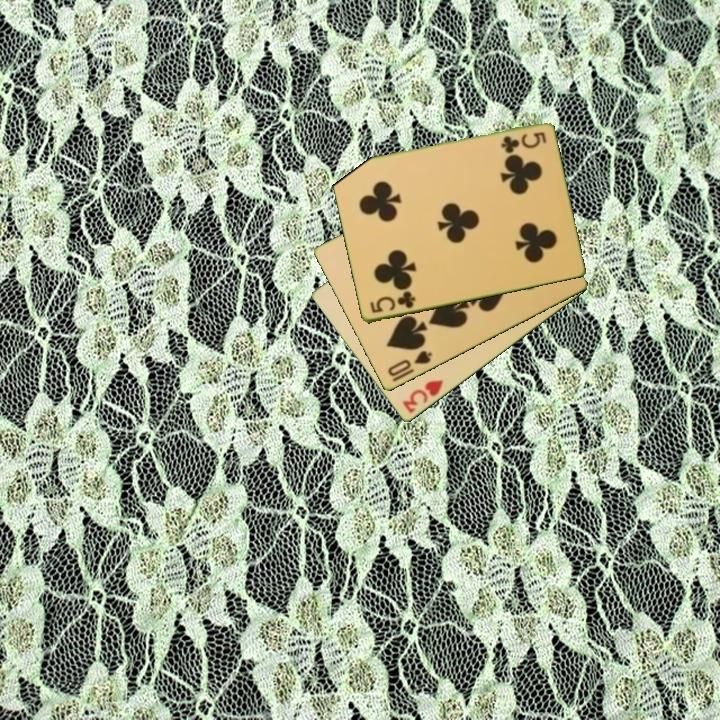10s: (384, 347, 435, 380)
3h: (399, 376, 446, 417)
5c: (366, 288, 418, 316), (497, 129, 549, 155)
